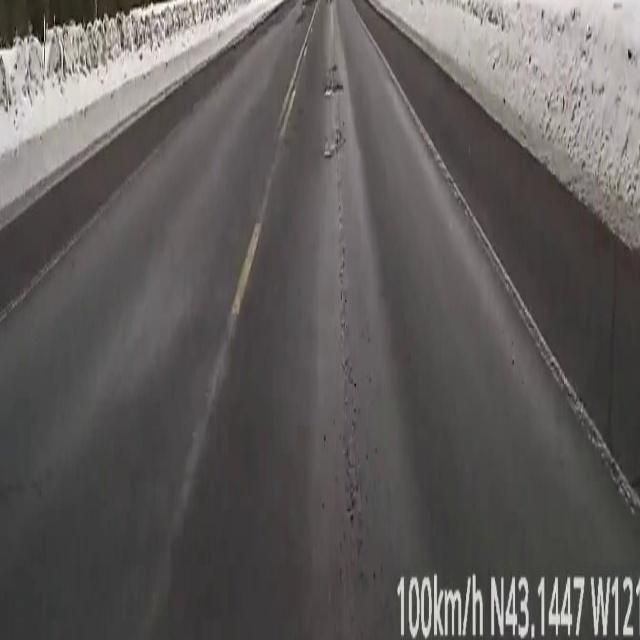pothole: (324, 130, 344, 156), (324, 85, 339, 96)
